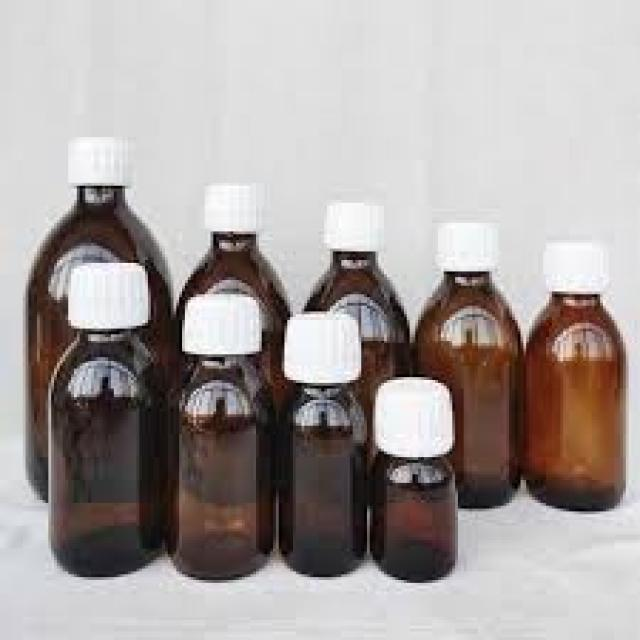glass: (20, 183, 171, 503), (45, 329, 165, 577), (410, 269, 518, 509), (165, 351, 267, 583), (523, 292, 623, 512), (302, 249, 413, 426), (174, 229, 285, 397), (270, 383, 364, 571), (370, 449, 455, 580)
plastic: (62, 257, 148, 329), (370, 375, 449, 452), (282, 309, 359, 380), (176, 289, 259, 349), (540, 240, 606, 289), (66, 131, 125, 183), (435, 220, 495, 269), (202, 180, 262, 229), (324, 203, 381, 248)
